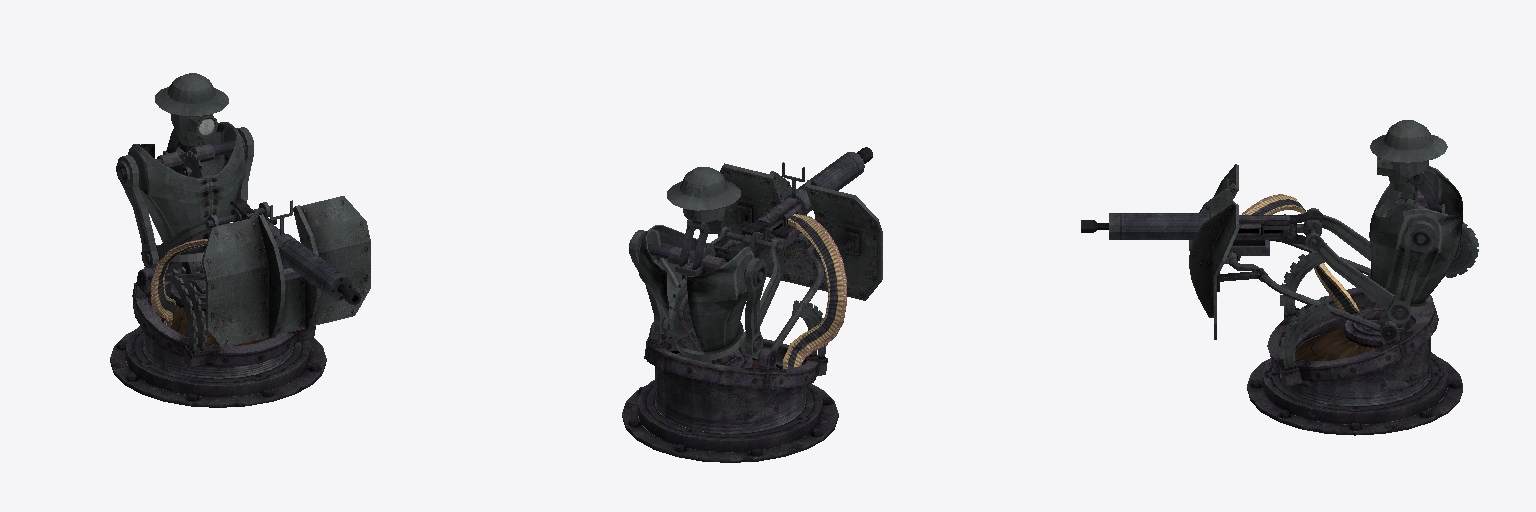
3 views of the same model, side by side, from view 1: azimuth 30°, elevation 25°; view 2: azimuth 150°, elevation 25°; view 3: azimuth 270°, elevation 25° (orthographic).
Size of the model in its own units: 2.87 by 3.92 by 5.28.
2 materials, 2 textured.